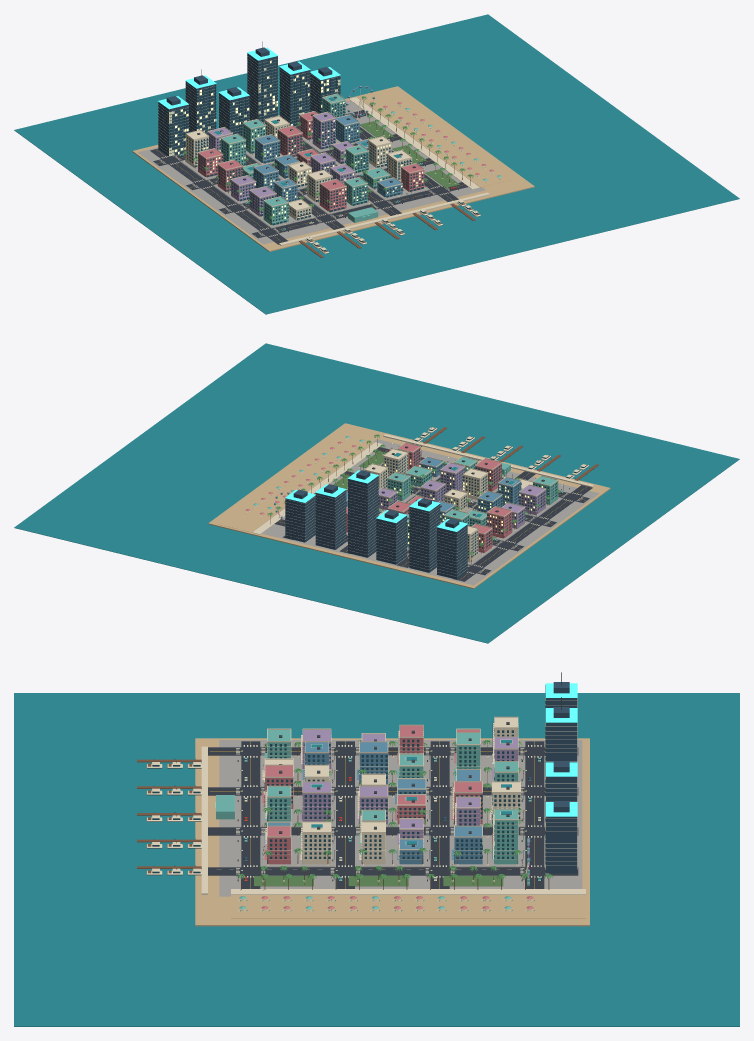
The model's file is city.glb.
3 renders of one model, top to bottom at view 1: azimuth 30°, elevation 25°; view 2: azimuth 150°, elevation 25°; view 3: azimuth 270°, elevation 25°, orthographic. The views are drawn at different scales.
Parts seen in each view (by area): view 1: Atlantic ocean, Long sandy beach, Coastal terrain, Urban ground, Glass tower.003, Glass tower.004, North south avenue, Glass tower, East west boulevard, Oceanfront promenade, Glass tower.001, Glass tower.002 (+13 smaller); view 2: Atlantic ocean, Coastal terrain, Long sandy beach, Urban ground, Glass tower.003, Glass tower.001, Glass tower.004, Glass tower, Glass tower.002, Glass tower.005, North south avenue, Oceanfront promenade (+5 smaller); view 3: Atlantic ocean, Coastal terrain, Long sandy beach, Urban ground, North south avenue.003, East west boulevard, East west boulevard.003, East west boulevard.002, Oceanfront promenade, East west boulevard.001, Glass tower.005, Glass tower.003 (+30 smaller).
Boxes of the visible parts, <box> form: Atlantic ocean: <box>14,14,739,314</box>; Long sandy beach: <box>357,89,512,187</box>; Coastal terrain: <box>132,86,534,251</box>; Urban ground: <box>138,98,485,244</box>; Glass tower.003: <box>247,53,277,122</box>; Glass tower.004: <box>279,67,310,125</box>; North south avenue: <box>150,148,287,244</box>; Glass tower: <box>158,102,188,156</box>; East west boulevard: <box>252,182,468,238</box>; Oceanfront promenade: <box>349,97,479,189</box>; Glass tower.001: <box>185,81,216,133</box>; Glass tower.002: <box>219,93,249,135</box>; Atlantic ocean: <box>14,343,739,643</box>; Coastal terrain: <box>208,423,610,588</box>; Long sandy beach: <box>219,434,374,532</box>; Urban ground: <box>261,439,599,585</box>; Glass tower.003: <box>348,476,378,557</box>; Glass tower.001: <box>409,504,440,572</box>; Glass tower.004: <box>315,490,346,549</box>; Glass tower: <box>437,524,467,579</box>; Glass tower.002: <box>376,515,406,564</box>; Glass tower.005: <box>285,495,315,542</box>; North south avenue: <box>453,485,592,581</box>; Oceanfront promenade: <box>252,442,382,534</box>; Atlantic ocean: <box>14,693,739,1026</box>; Coastal terrain: <box>195,738,589,926</box>; Long sandy beach: <box>231,895,585,918</box>; Urban ground: <box>219,740,582,896</box>; North south avenue.003: <box>208,867,578,875</box>; East west boulevard: <box>241,741,260,888</box>; East west boulevard.003: <box>525,741,544,888</box>; East west boulevard.002: <box>430,741,449,888</box>; Oceanfront promenade: <box>231,889,585,894</box>; East west boulevard.001: <box>336,741,354,888</box>; Glass tower.005: <box>546,816,577,873</box>; Glass tower.003: <box>546,722,577,762</box>.
Size of the model in its own units: 500 by 90 by 460.
